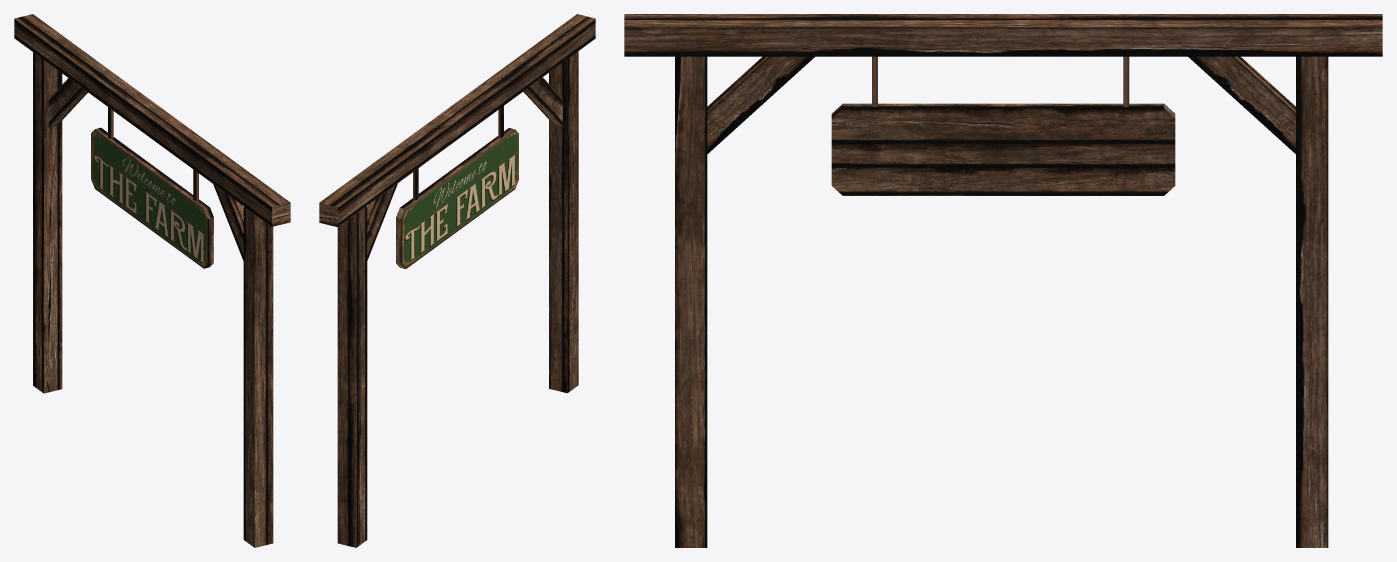
File: farm-entrance.fbx
The picture shows the model from 3 angles, left to right: view 1: azimuth 30°, elevation 25°; view 2: azimuth 150°, elevation 25°; view 3: azimuth 270°, elevation 25°; orthographic projection. The views are drawn at different scales.
Visible parts, largest first — view 1: Plane.066; view 2: Plane.066; view 3: Plane.066.
Boxes of the visible parts, x1,y1,x2,y2 form: Plane.066: (14, 14, 290, 547); Plane.066: (319, 14, 595, 547); Plane.066: (624, 14, 1382, 547).
Bounding box in the file's own units: 59.36 × 1076 × 1421.
Materials: 1 (1 with a texture image).
